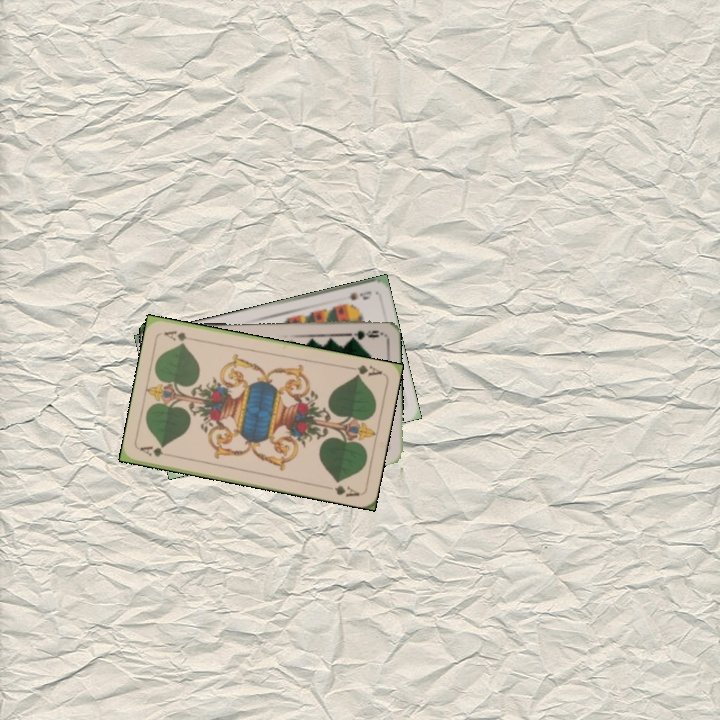G9: (344, 326, 384, 341)
GA: (344, 361, 384, 380), (136, 442, 177, 460)
S9: (344, 287, 374, 303)
